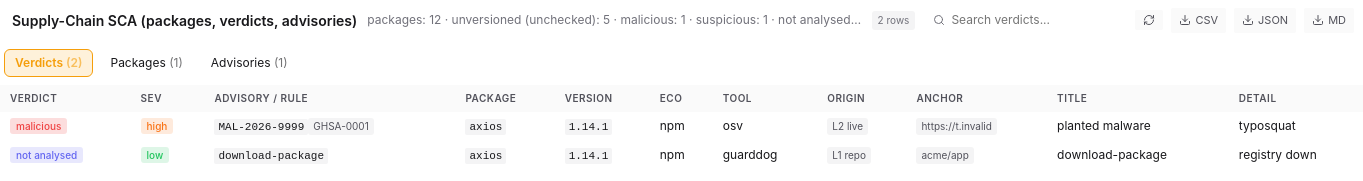
Test: SupplyChainScaTable › switching to Packages shows the unverdictable status and "no version"
Check: the text "MAL-2026-9999" is shown, box [214,118,308,134]
Click the button "Packages (1)": (147, 62) [100,48,194,76]
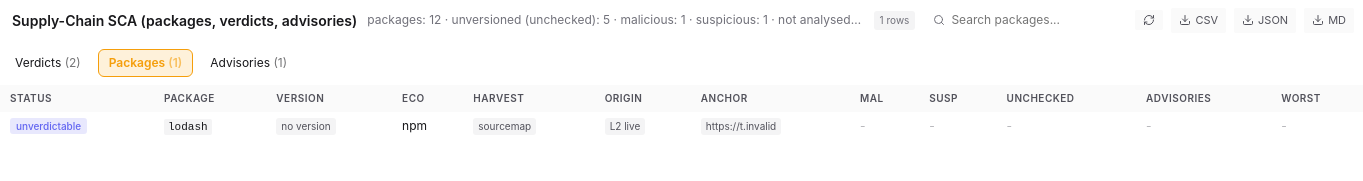
Check: the text "unverdictable" is shown, box [10,118,87,134]
Check: the text "no version" is shown, box [276,118,336,134]
